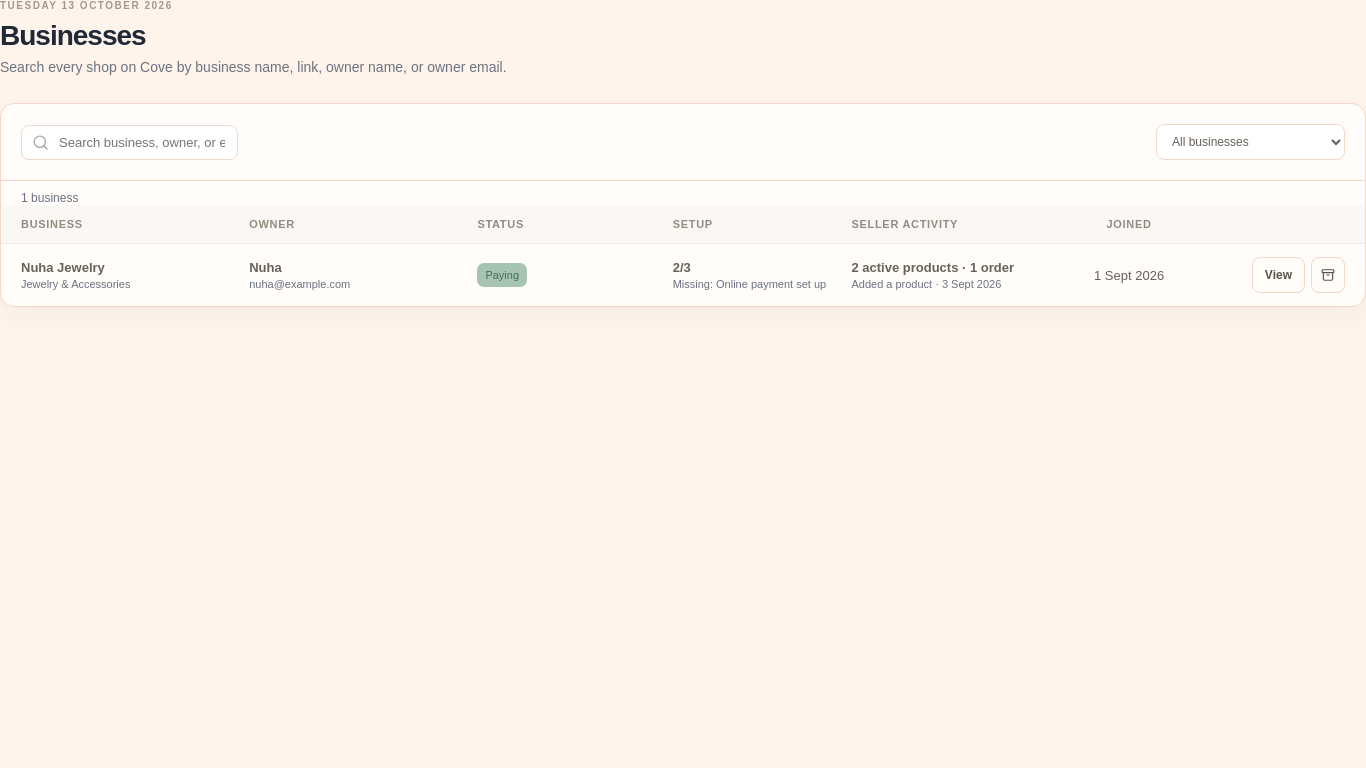
AdminBusinessesPage › opens the archive dialog with the shop billing state so a live subscription is blocked upfront
Click the button named "Archive Nuha Jewelry": [1328, 275] box [1311,257,1345,293]
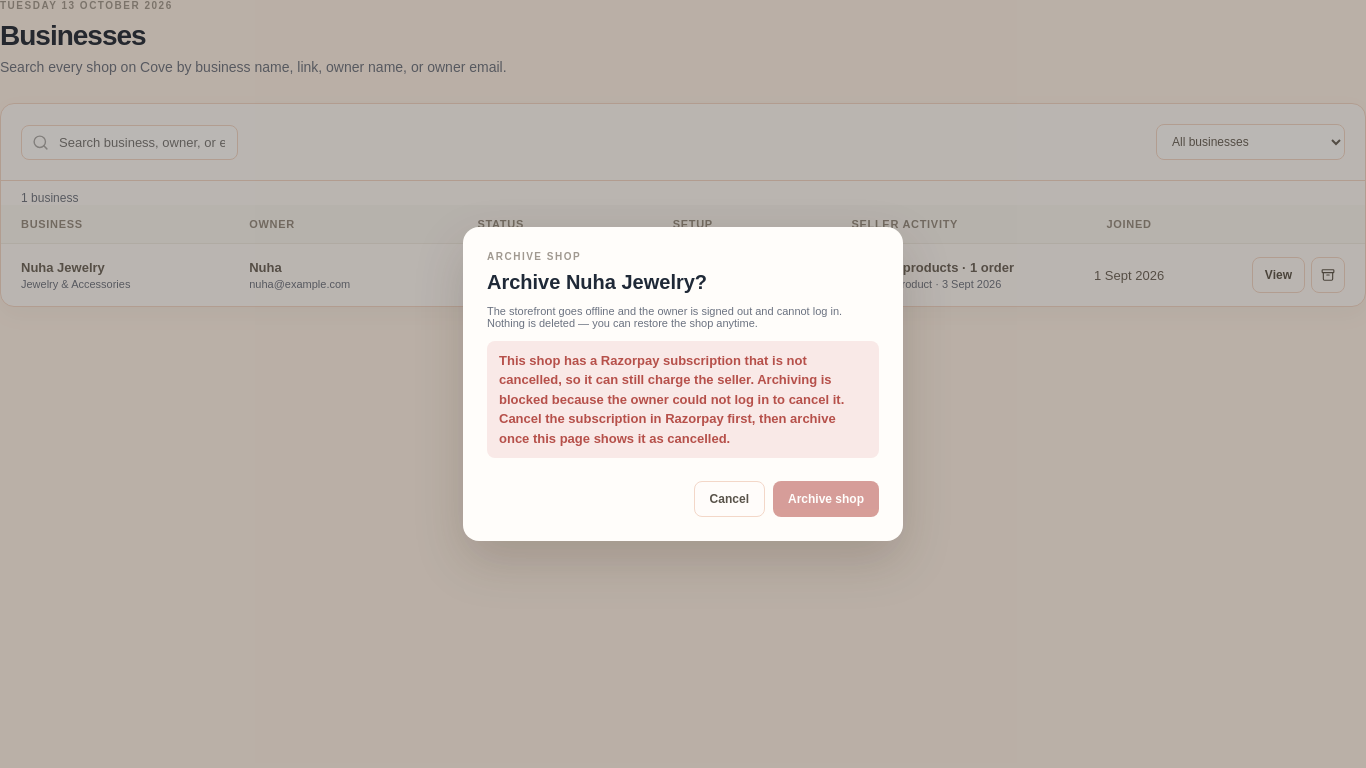
Expected: the message shows "can still charge the seller", [499,353,844,446]
Expected: the button "Archive shop" is disabled, [773,481,879,517]
